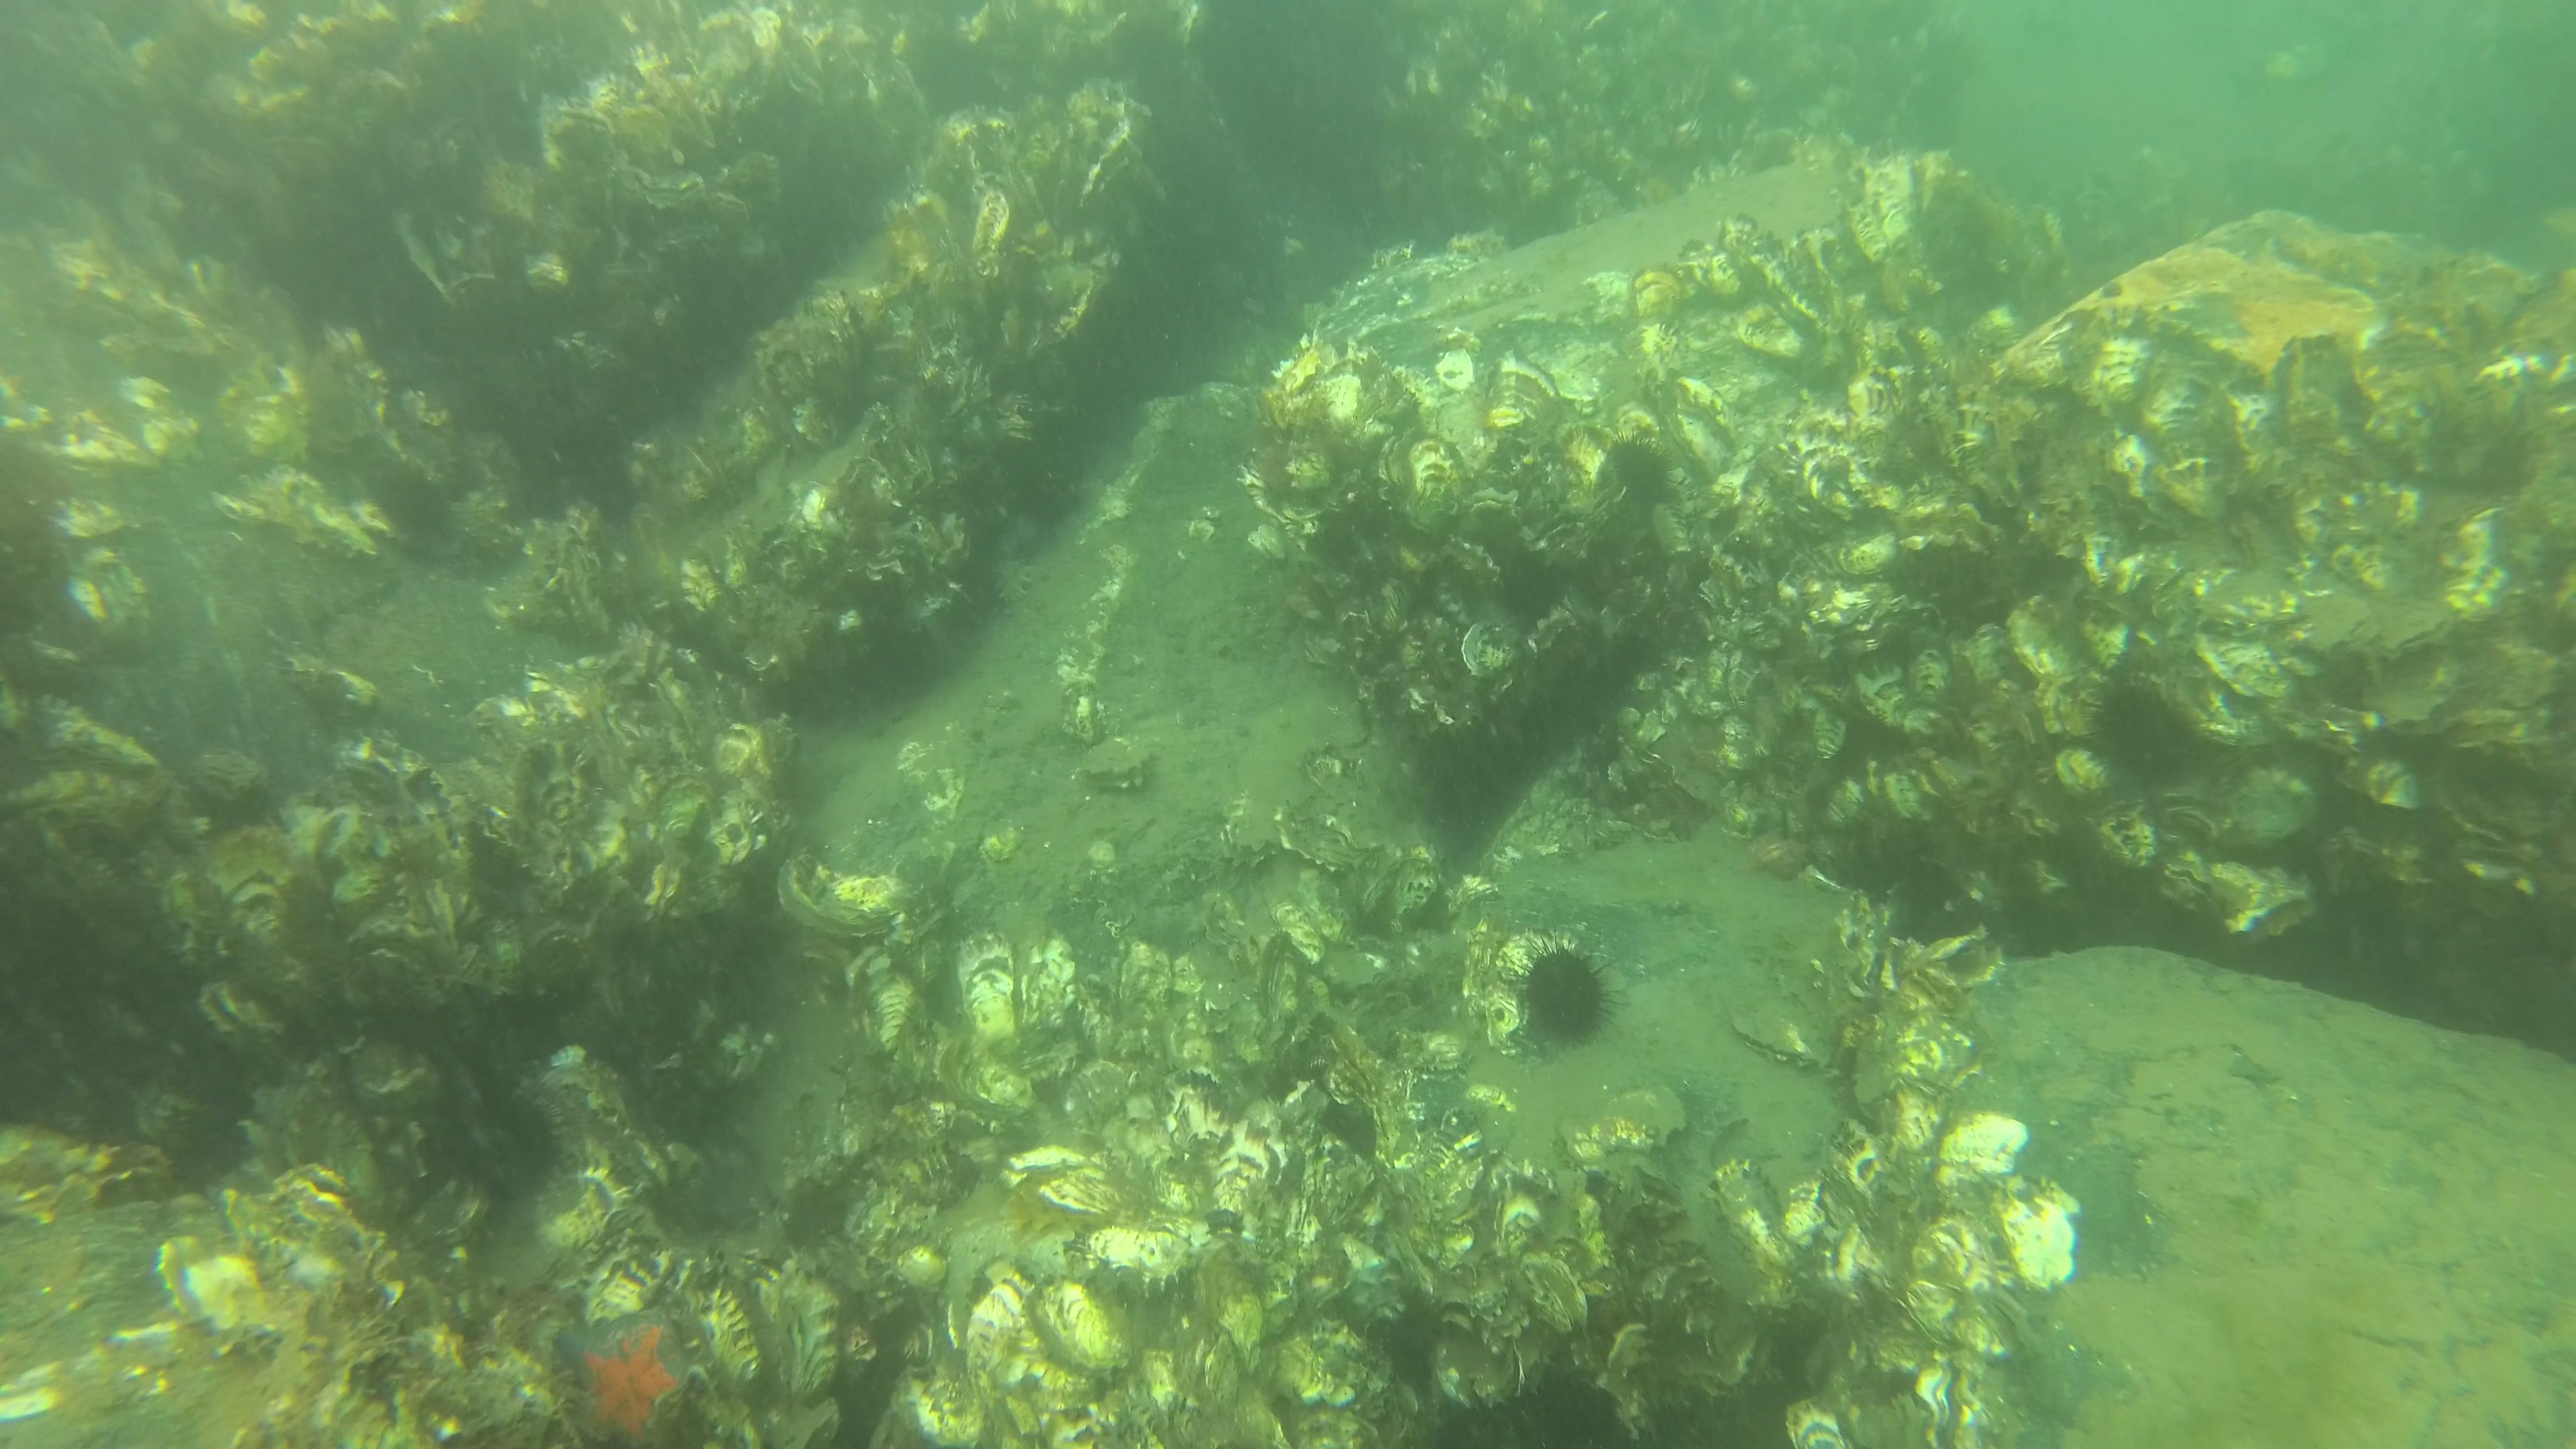echinus: (2084, 679, 2192, 786), (1514, 939, 1614, 1047), (1608, 435, 1663, 497)
starfish: (568, 1316, 679, 1440)
